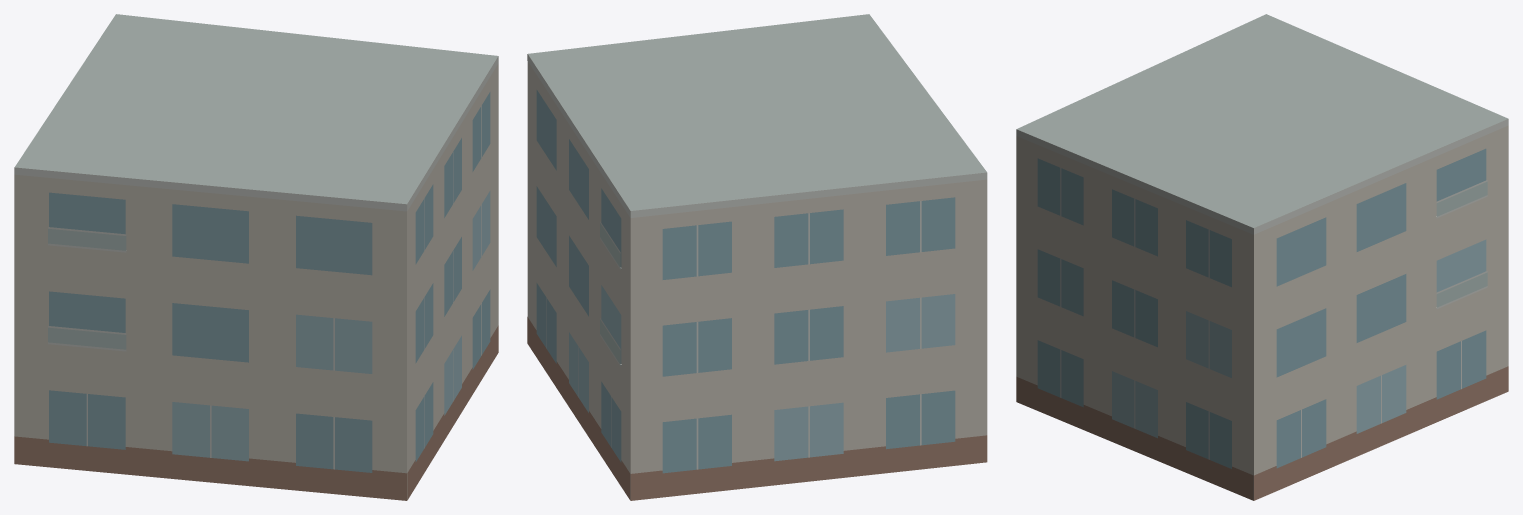
The model's file is survey-upis-32862282.glb.
3 views of the same model, side by side, from view 1: azimuth 30°, elevation 25°; view 2: azimuth 150°, elevation 25°; view 3: azimuth 270°, elevation 25° (orthographic). The views are drawn at different scales.
Parts seen in each view (by area): view 1: survey-upis-32862282.tmp; view 2: survey-upis-32862282.tmp; view 3: survey-upis-32862282.tmp.
Part boxes in pixels (left/top/right/bottom): survey-upis-32862282.tmp: left=14, top=14, right=498, bottom=500; survey-upis-32862282.tmp: left=527, top=14, right=987, bottom=500; survey-upis-32862282.tmp: left=1016, top=14, right=1508, bottom=500.
Bounding box in the file's own units: 16.85 × 10 × 16.37.
